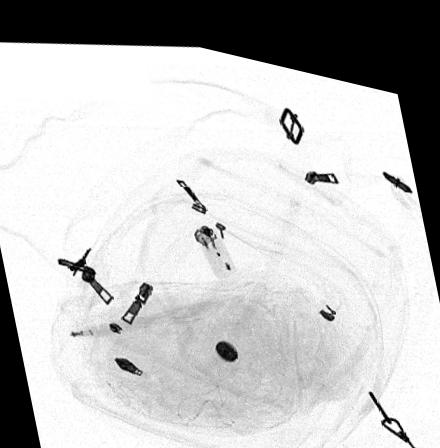Lighter: (194, 214, 237, 267)
